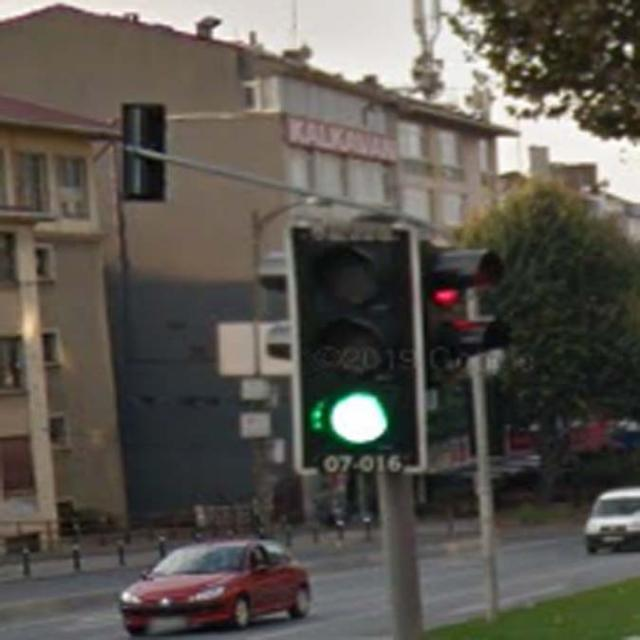yesil: (297, 225, 421, 475)
